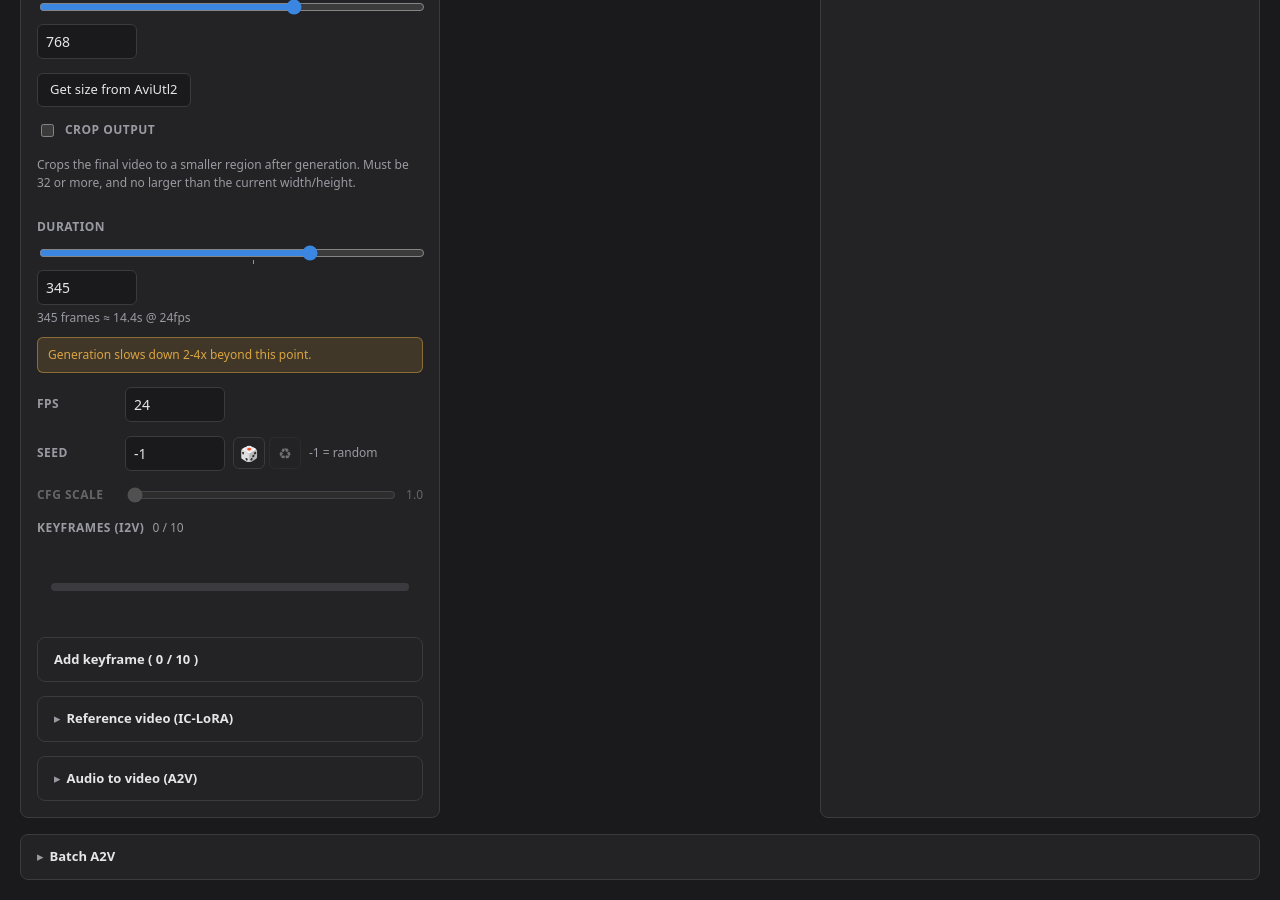
Test: AppShell — MiniMax H3 (第 2 弾, 2c-G1) › LTX 2.3: a keyframe card shows its strength row
The image size is (1280, 900).
(page scrolled)
Click the button "Add keyframe ( 0 / 10 )" at (126, 658), box top-left (37, 636), bottom-right (423, 682)
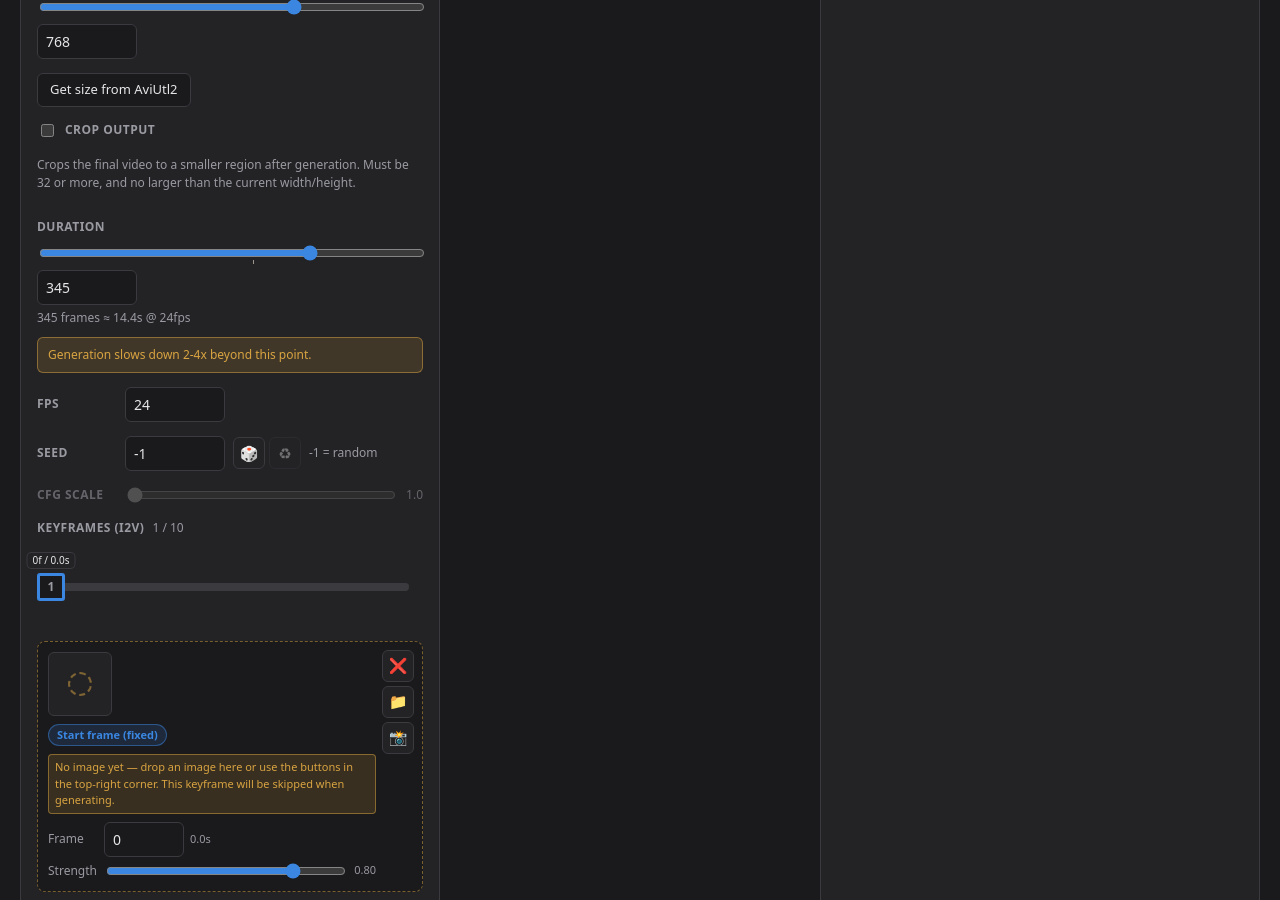
Now the number of list items with class "kfc-card" is 1, box top-left (37, 640), bottom-right (423, 892)
Now the slider labelled "Strength 0.80" is enabled, box top-left (106, 862), bottom-right (346, 878)
